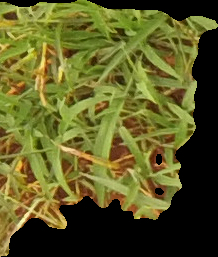grass: (1, 1, 216, 255)
